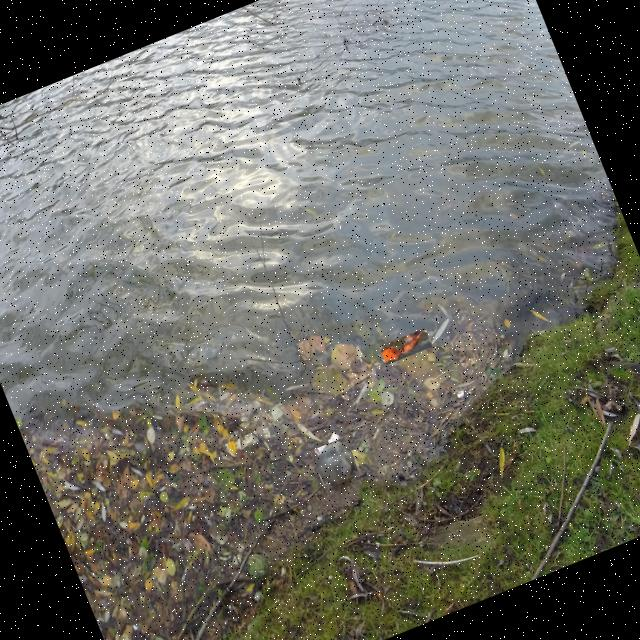Clear plastic bottle: (317, 440, 353, 482)
Other plastic: (383, 327, 425, 362)
